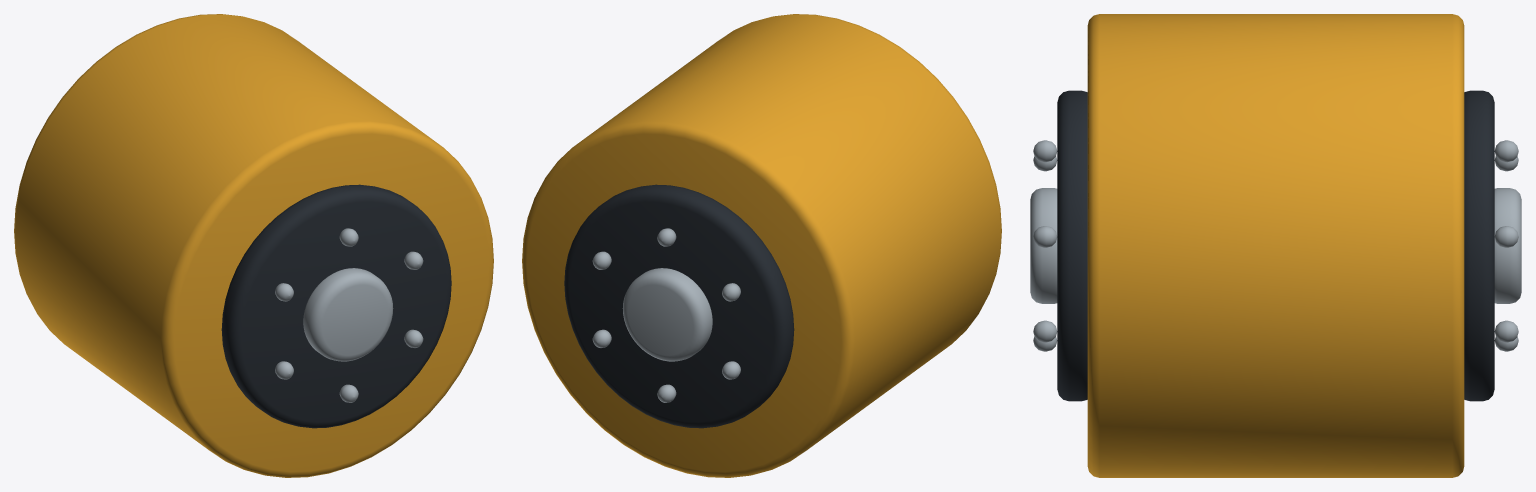
The model's file is SM_AGV_Wheel_Load_L1.fbx.
The picture shows the model from 3 angles, left to right: view 1: azimuth 30°, elevation 25°; view 2: azimuth 150°, elevation 25°; view 3: azimuth 270°, elevation 25°; orthographic projection. The views are drawn at different scales.
Visible parts, largest first — view 1: SM_AGV_Wheel_Load_L1.002; view 2: SM_AGV_Wheel_Load_L1.002; view 3: SM_AGV_Wheel_Load_L1.002.
Part boxes in pixels (x1,y1,x2,y2): SM_AGV_Wheel_Load_L1.002: (14, 14, 493, 477); SM_AGV_Wheel_Load_L1.002: (522, 14, 1001, 477); SM_AGV_Wheel_Load_L1.002: (1030, 14, 1521, 477).
Size of the model in its own units: 0.154 by 0.163 by 0.154.
